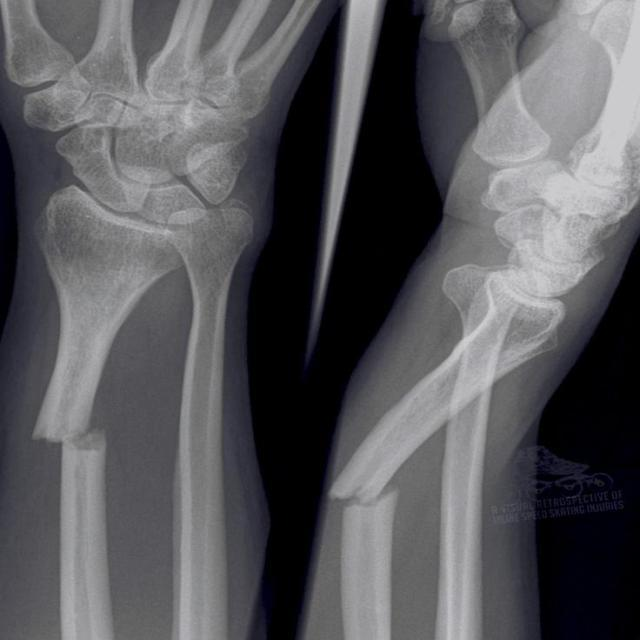bone: (324, 458, 411, 544), (14, 410, 120, 470)
